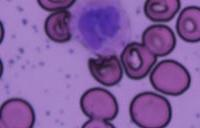N: (68, 0, 132, 56)
